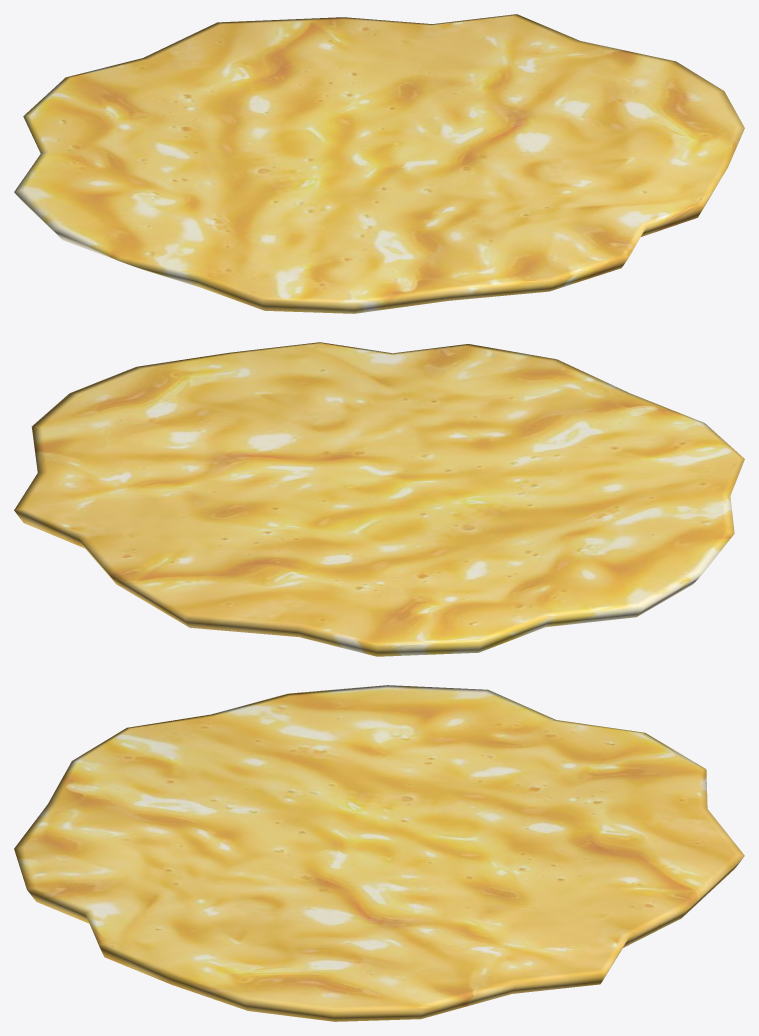
The model's file is CheeseMelted.fbx.
3 renders of one model, top to bottom at view 1: azimuth 30°, elevation 25°; view 2: azimuth 150°, elevation 25°; view 3: azimuth 270°, elevation 25°, orthographic. The views are drawn at different scales.
Visible parts, largest first — view 1: CheeseMelted; view 2: CheeseMelted; view 3: CheeseMelted.
Part boxes in pixels (bbox=[...]): CheeseMelted: bbox=[14, 14, 744, 313]; CheeseMelted: bbox=[14, 342, 744, 656]; CheeseMelted: bbox=[14, 685, 744, 1021].
Size of the model in its own units: 48.1 by 1.24 by 45.27.
1 material, 1 textured.
